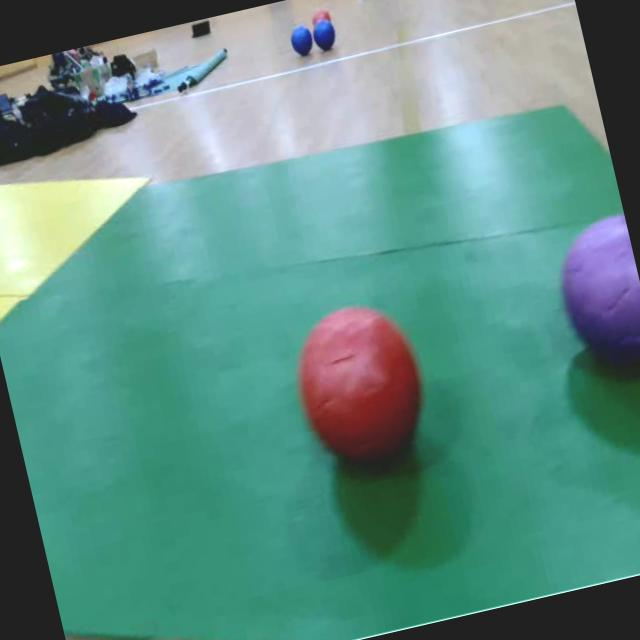blue_ball: (286, 22, 318, 56), (311, 22, 338, 52)
purple_ball: (547, 213, 640, 391)
red_ball: (276, 289, 442, 486), (309, 7, 331, 22)
